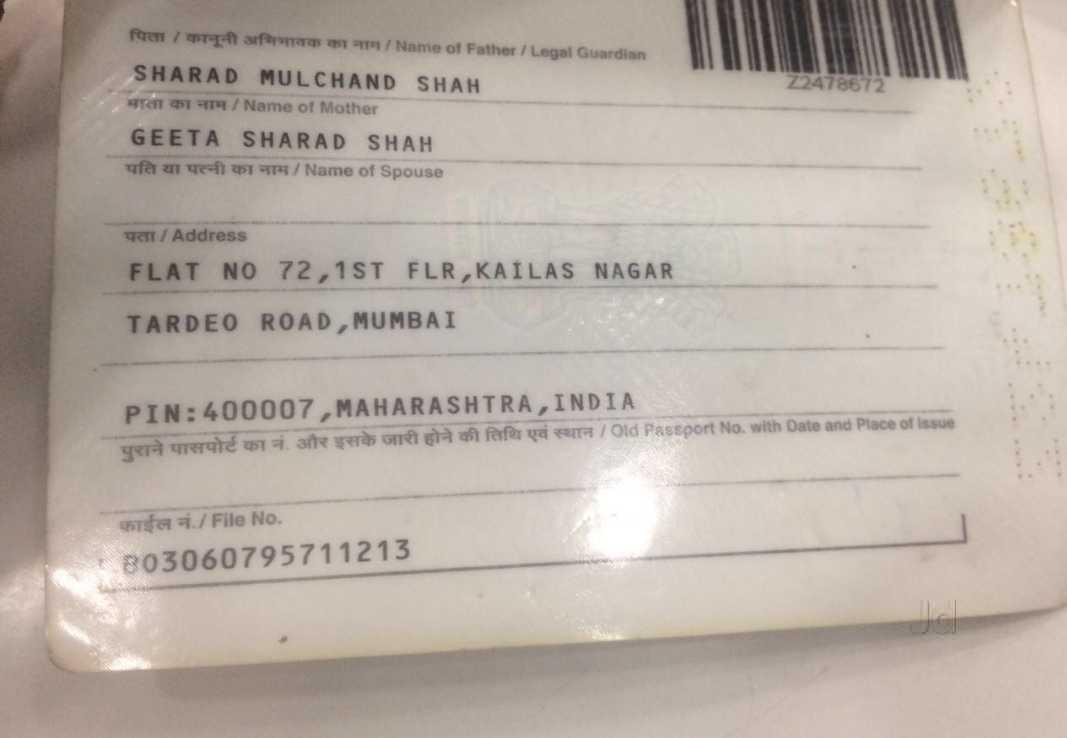File_no: (98, 532, 420, 594)
address: (104, 250, 714, 424)
father_name: (121, 47, 492, 104)
mother_name: (116, 109, 446, 166)
passport_no: (772, 66, 904, 106)
